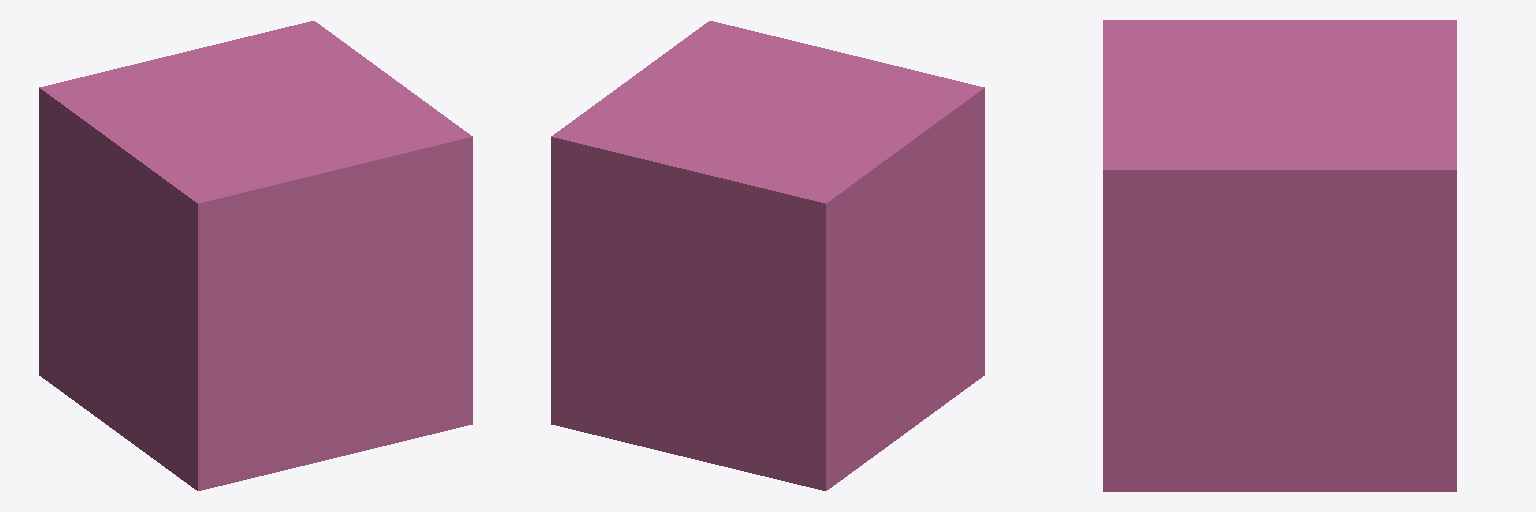
robot.urdf — robotiq_85_gripper:
<?xml version="1.0"?>

<robot name="robotiq_85_gripper">
  <!-- control -->
  <link name="base_link">
    <inertial>
      <mass value="0" />
      <inertia ixx = "0" ixy = "0" ixz = "0"
               iyx = "0" iyy = "0" iyz = "0"
               izx = "0" izy = "0" izz = "0" />
    </inertial>
  </link>

  <joint name="center_x" type="prismatic">
    <parent link="base_link"/>
    <child link="y_control"/>
    <axis xyz="1 0 0"/>
    <limit effort="1000.0" lower="-0.5" upper="0.5" velocity="0.2"/>
  </joint>

  <link name="y_control">
    <inertial>
      <mass value="0.1" />
      <inertia ixx = "0" ixy = "0" ixz = "0"
               iyx = "0" iyy = "0" iyz = "0"
               izx = "0" izy = "0" izz = "0" />
    </inertial>
  </link>

  <joint name="center_y" type="prismatic">
    <parent link="y_control"/>
    <child link="z_control"/>
    <axis xyz="0 1 0"/>
    <limit effort="1000.0" lower="-0.5" upper="0.5" velocity="0.2"/>
  </joint>

  <link name="z_control">
    <inertial>
      <mass value="0.1" />
      <inertia ixx = "0" ixy = "0" ixz = "0"
               iyx = "0" iyy = "0" iyz = "0"
               izx = "0" izy = "0" izz = "0" />
    </inertial>
  </link>

  <joint name="center_z" type="prismatic">
    <parent link="z_control"/>
    <child link="yaw_control"/>
    <axis xyz="0 0 1"/>
    <limit effort="1000.0" lower="-0.25" upper="1" velocity="0.2"/>
  </joint>

  <link name="yaw_control">
    <inertial>
      <mass value="0.1" />
      <inertia ixx = "0" ixy = "0" ixz = "0"
               iyx = "0" iyy = "0" iyz = "0"
               izx = "0" izy = "0" izz = "0" />
    </inertial>
  </link>

  <joint name="gripper_yaw" type="revolute">
    <parent link="yaw_control"/>
    <child link="pitch_control"/>
    <axis xyz="0 0 1"/>
    <limit lower="-31.4" upper="31.4" velocity="3.14" effort="10000"/>

  </joint>

  <link name="pitch_control">
    <inertial>
      <mass value="0.1" />
      <inertia ixx = "0" ixy = "0" ixz = "0"
               iyx = "0" iyy = "0" iyz = "0"
               izx = "0" izy = "0" izz = "0" />
    </inertial>
  </link>

  <joint name="gripper_pitch" type="revolute">
    <parent link="pitch_control"/>
    <child link="roll_control"/>
    <axis xyz="0 1 0"/>
    <limit lower="-31.4" upper="31.4" velocity="3.14" effort="10000"/>

  </joint>

  <link name="roll_control">
    <inertial>
      <mass value="0.1" />
      <inertia ixx = "0" ixy = "0" ixz = "0"
               iyx = "0" iyy = "0" iyz = "0"
               izx = "0" izy = "0" izz = "0" />
    </inertial>
  </link>

  <joint name="gripper_roll" type="revolute">
    <parent link="roll_control"/>
    <child link="dummy_center_indicator_link"/>
    <axis xyz="1 0 0"/>
    <limit lower="-31.4" upper="31.4" velocity="3.14" effort="100000"/>
  </joint>

  <link name="dummy_center_indicator_link">
    <visual>
      <geometry>
        <box size="0.001 0.001 0.001"/>
      </geometry>
    </visual>
    <inertial>
      <mass value="0" />
      <inertia ixx = "0" ixy = "0" ixz = "0"
               iyx = "0" iyy = "0" iyz = "0"
               izx = "0" izy = "0" izz = "0" />
    </inertial>
  </link>

  <joint name="dummy_center_fixed_joint" type="fixed">
    <parent link="dummy_center_indicator_link"/>
    <child link="robotiq_85_base_link"/>
    <origin xyz="0 0 0.05" />
  </joint>


  <link name="robotiq_85_base_link">
      <contact>
          <friction_anchor/>
          <stiffness value="30000.0"/>
          <damping value="0"/>
          <rolling_friction value="0.03"/>
          <spinning_friction value="0.03"/>
          <lateral_friction value="1"/>
      </contact>
      <visual>
        <geometry>
          <mesh filename="cube.obj" scale=".005 .005 .1"/>
        </geometry>
      </visual>
      <collision>
        <geometry>
          <mesh filename="cube.obj" scale=".005 .005 .1"/>
        </geometry>
      </collision>
      <inertial>
        <mass value="1" />
        <origin xyz="0.0 0.0 0.0" />
        <inertia ixx="1" ixy="0" ixz="0" iyy="1" iyz="0" izz="1"/>
      </inertial>
  </link>
  
  <link name="robotiqf1">
      <contact>
          <friction_anchor/>
          <stiffness value="30000.0"/>
          <damping value="0"/>
          <rolling_friction value="0.03"/>
          <spinning_friction value="0.03"/>
          <lateral_friction value="1"/>
      </contact>
      <visual>
        <geometry>
          <mesh filename="cube.obj" scale=".005 .005 .1"/>
        </geometry>
      </visual>
      <collision>
        <geometry>
          <mesh filename="cube.obj" scale=".005 .005 .1"/>
        </geometry>
      </collision>
      <inertial>
        <mass value="1" />
        <origin xyz="0.0 0.0 0.0" />
        <inertia ixx="1" ixy="0" ixz="0" iyy="1" iyz="0" izz="1"/>
      </inertial>
  </link>
  
  <joint name="gripperl" type="prismatic">
    <parent link="robotiq_85_base_link"/>
    <child link="robotiqf1"/>
    <origin xyz="0 -0.035 0.03 " />
    <axis xyz="0 1 0"/>
    <limit effort="100" lower="-0.035" upper="0.025" velocity="1"/>
  </joint>

</robot>

--- Facts derived from the render (not from the file) ---
3 views of the same robot in one strip: view 1: azimuth 30°, elevation 25°; view 2: azimuth 150°, elevation 25°; view 3: azimuth 270°, elevation 25° (orthographic).
Model robotiq_85_gripper with 9 links and 8 joints (3 revolute, 4 prismatic, 1 fixed), rooted at base_link, posed every joint at zero.
Links seen in each view (by area): view 1: dummy_center_indicator_link; view 2: dummy_center_indicator_link; view 3: dummy_center_indicator_link.
Link boxes in pixels (x1,y1,x2,y2): dummy_center_indicator_link: (39, 21, 472, 490); dummy_center_indicator_link: (551, 21, 984, 490); dummy_center_indicator_link: (1103, 20, 1456, 491).
Bounding box of the posed robot: 0.001 × 0.001 × 0.001 m (x, y, z).
Meshes: 1 distinct files referenced, 0 mesh visuals loaded (none loaded); not drawn: 2 (reference not matched to a file when rendering).